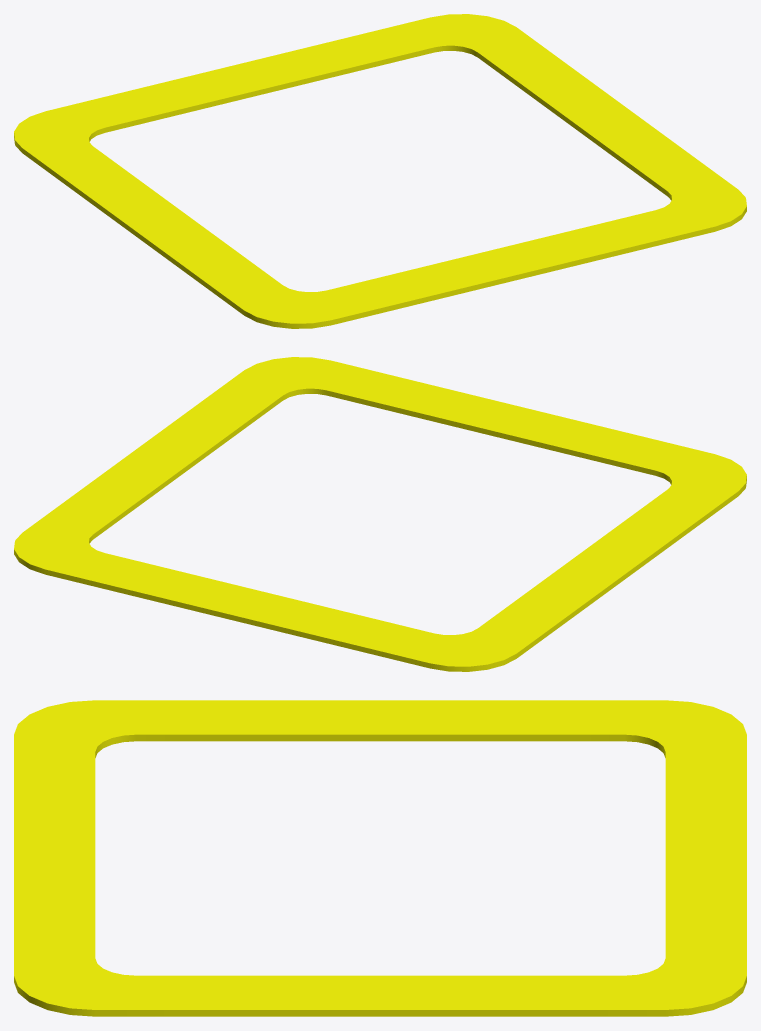
File: spawn.fbx
3 views of the same model, one above another, from view 1: azimuth 30°, elevation 25°; view 2: azimuth 150°, elevation 25°; view 3: azimuth 270°, elevation 25° (orthographic). The views are drawn at different scales.
Parts seen in each view (by area): view 1: pCube1; view 2: pCube1; view 3: pCube1.
Boxes of the visible parts, x1,y1,x2,y2 form: pCube1: (14,14,746,328); pCube1: (14,357,746,671); pCube1: (14,700,746,1016).
Size of the model in its own units: 1 by 0.01 by 1.
1 material, 1 textured.
